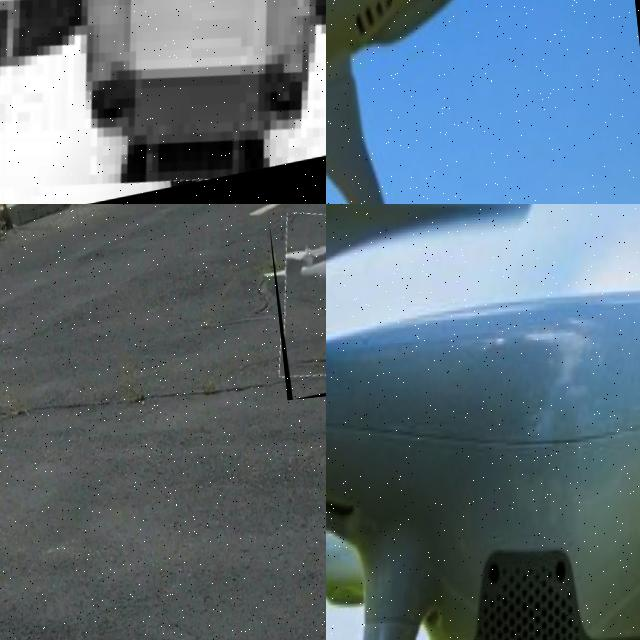0: (326, 0, 640, 204)
drone: (326, 204, 640, 640), (0, 0, 326, 204), (269, 204, 326, 400)
